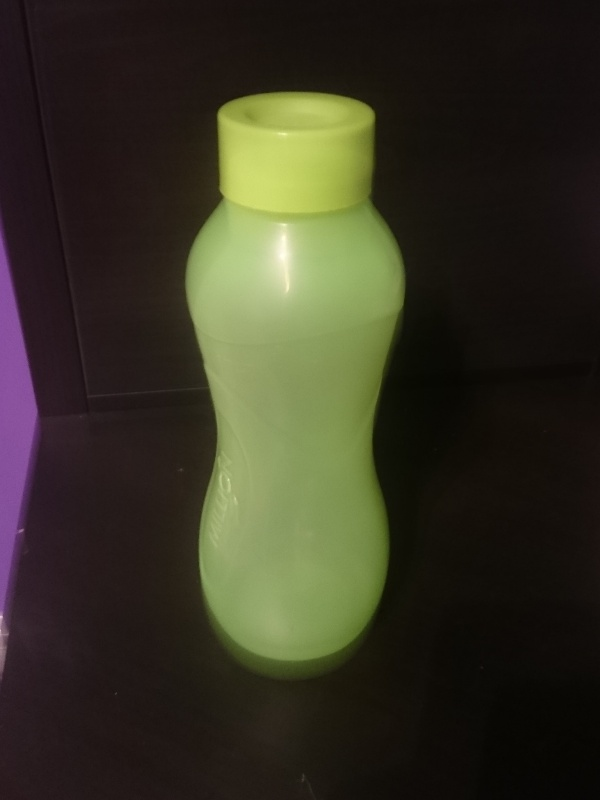my bottle: (182, 91, 406, 659)
